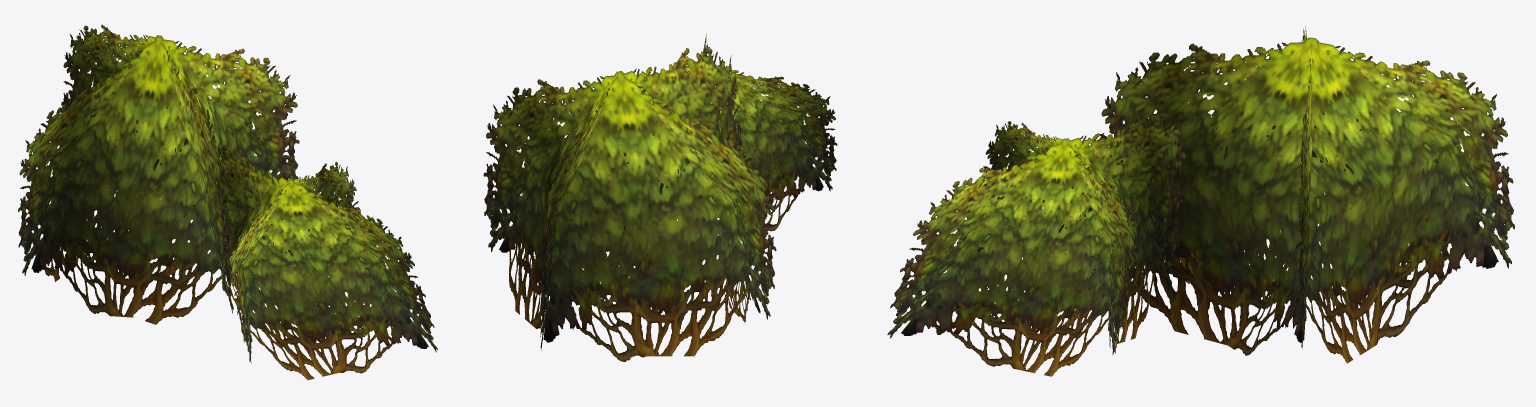
The model's file is elwynnbush04.obj.
The picture shows the model from 3 angles, left to right: view 1: azimuth 30°, elevation 25°; view 2: azimuth 150°, elevation 25°; view 3: azimuth 270°, elevation 25°; orthographic projection. The views are drawn at different scales.
Parts seen in each view (by area): view 1: elwynnbush04; view 2: elwynnbush04; view 3: elwynnbush04.
Boxes of the visible parts, left/top/right/bottom form: elwynnbush04: left=18, top=24, right=437, bottom=380; elwynnbush04: left=483, top=34, right=837, bottom=361; elwynnbush04: left=887, top=26, right=1514, bottom=376.
Size of the model in its own units: 5.1 by 4 by 8.49.
Materials: 1 (1 with a texture image).
